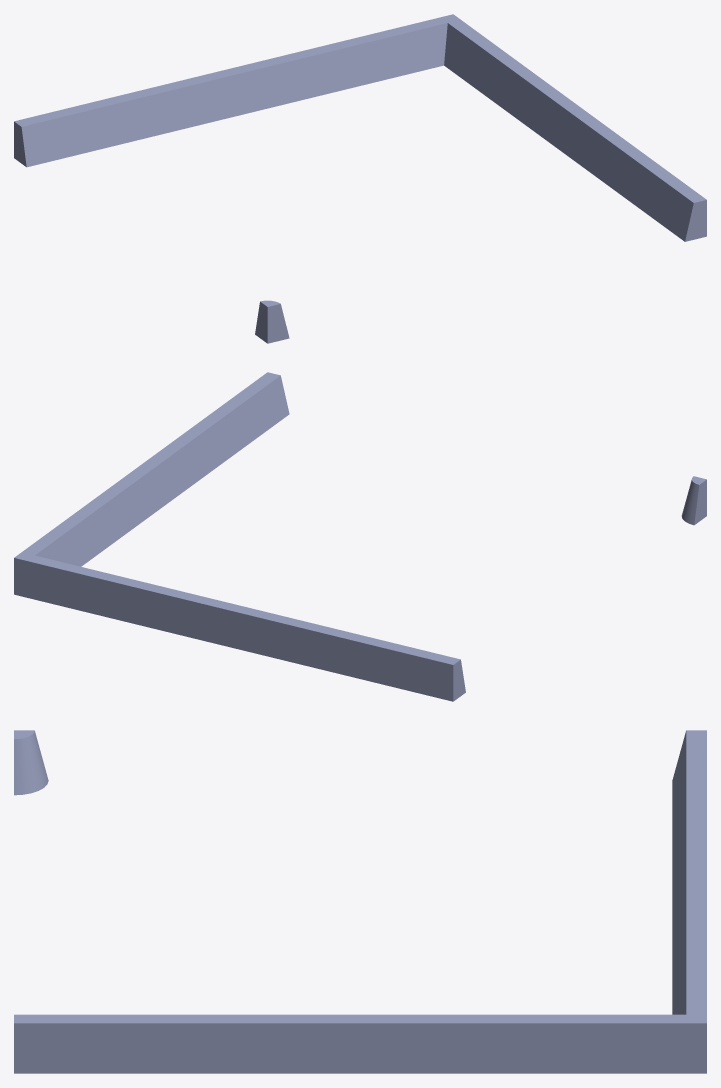
Rendered from road-bend-square-barrier.fbx.
3 renders of one model, top to bottom at view 1: azimuth 30°, elevation 25°; view 2: azimuth 150°, elevation 25°; view 3: azimuth 270°, elevation 25°, orthographic. The views are drawn at different scales.
Visible parts, largest first — view 1: road-bend-square-barrier; view 2: road-bend-square-barrier; view 3: road-bend-square-barrier.
Boxes of the visible parts, x1,y1,x2,y2 form: road-bend-square-barrier: (14,14,706,343); road-bend-square-barrier: (14,372,706,701); road-bend-square-barrier: (14,730,706,1073).
Bounding box in the file's own units: 100 × 8 × 100.
